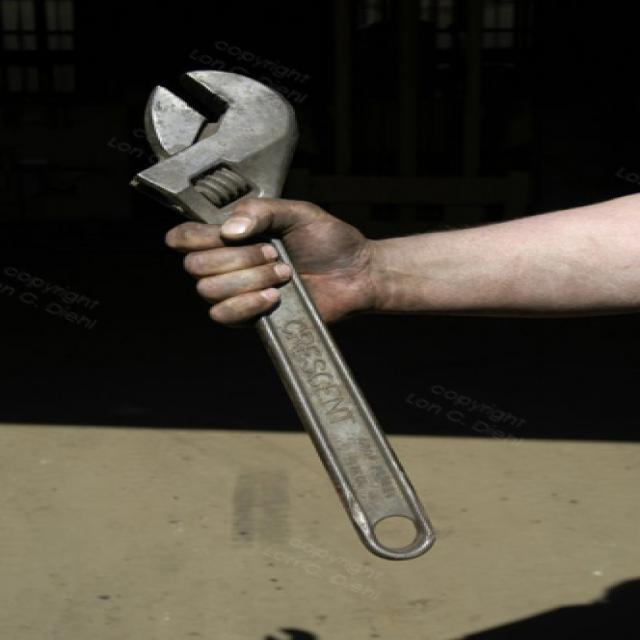wrench: (124, 61, 447, 567)
